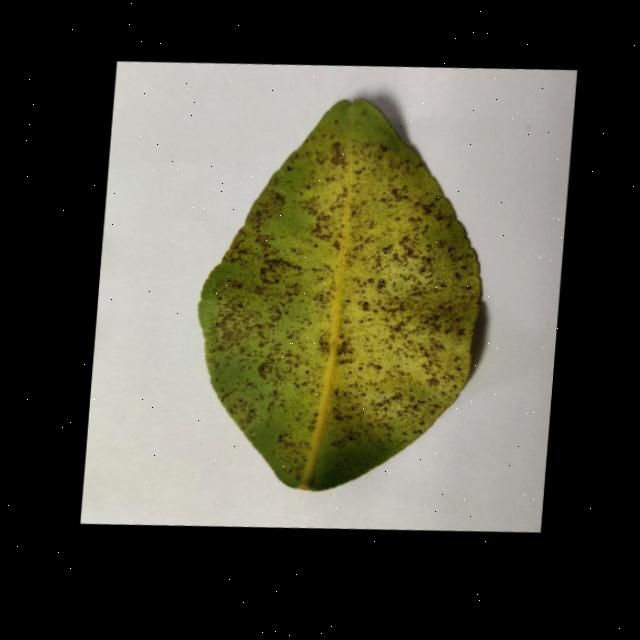melanose: (198, 100, 479, 491)
